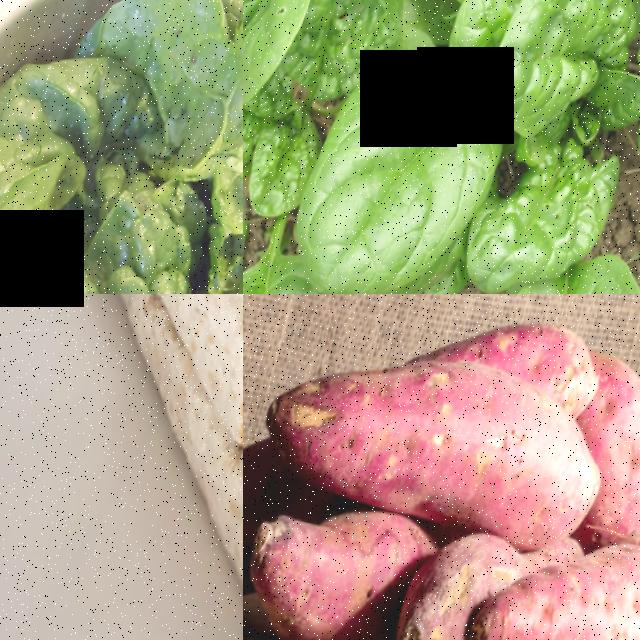spinach: (282, 46, 519, 294), (461, 129, 626, 294), (482, 0, 640, 152), (0, 181, 212, 294), (281, 0, 413, 110), (243, 110, 324, 230)
sweet potato: (243, 303, 630, 591), (243, 476, 431, 640), (455, 509, 640, 640), (381, 515, 536, 640)
tempeh: (157, 294, 243, 490), (15, 294, 243, 362)
